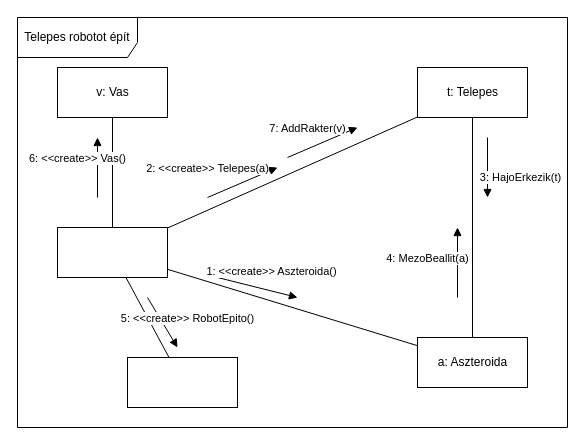
Image size: 585x445. Some labels were removed from this diagram. Each missing label, with the box of its shape:
e: RobotEpito: (126, 356, 238, 408)
SkeletonController: (56, 226, 168, 278)
